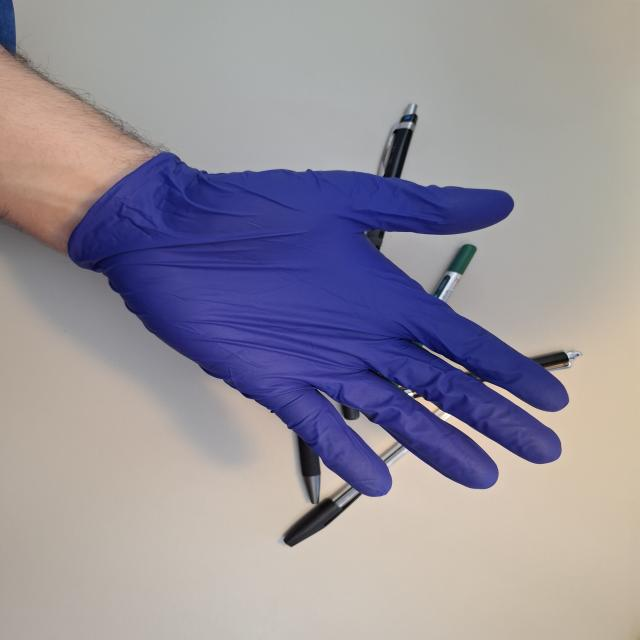glove_on: (65, 153, 574, 499)
